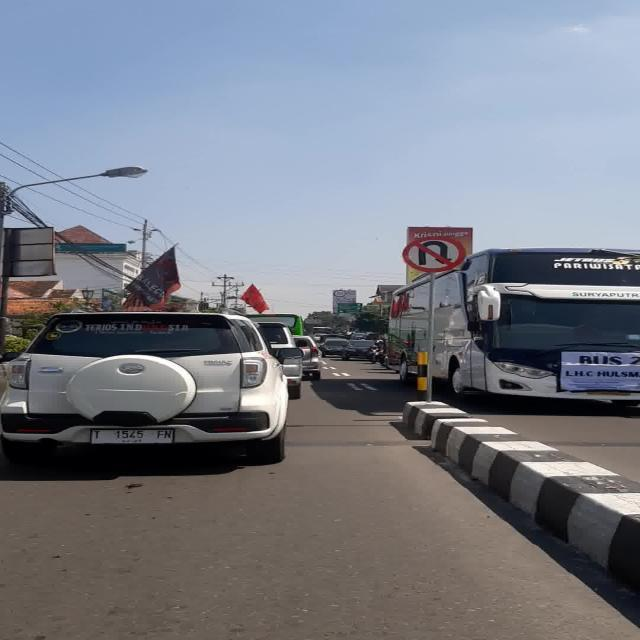Dilarang Putar Balik: (402, 237, 466, 272)
